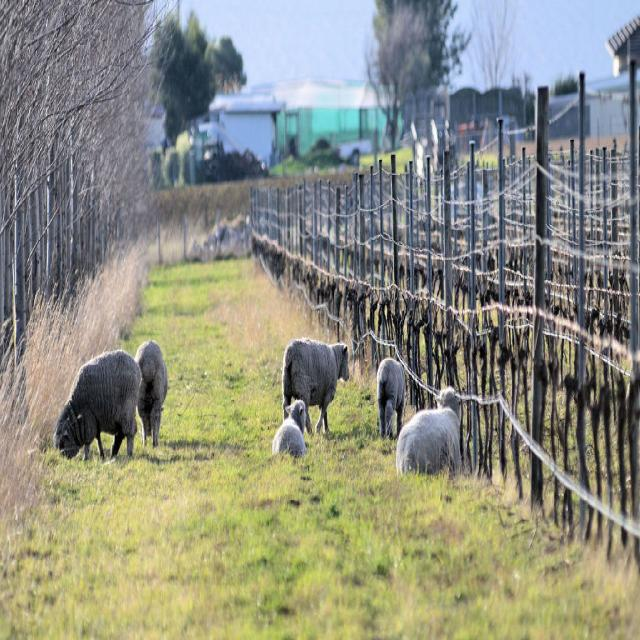Sheep: (53, 338, 462, 480)
